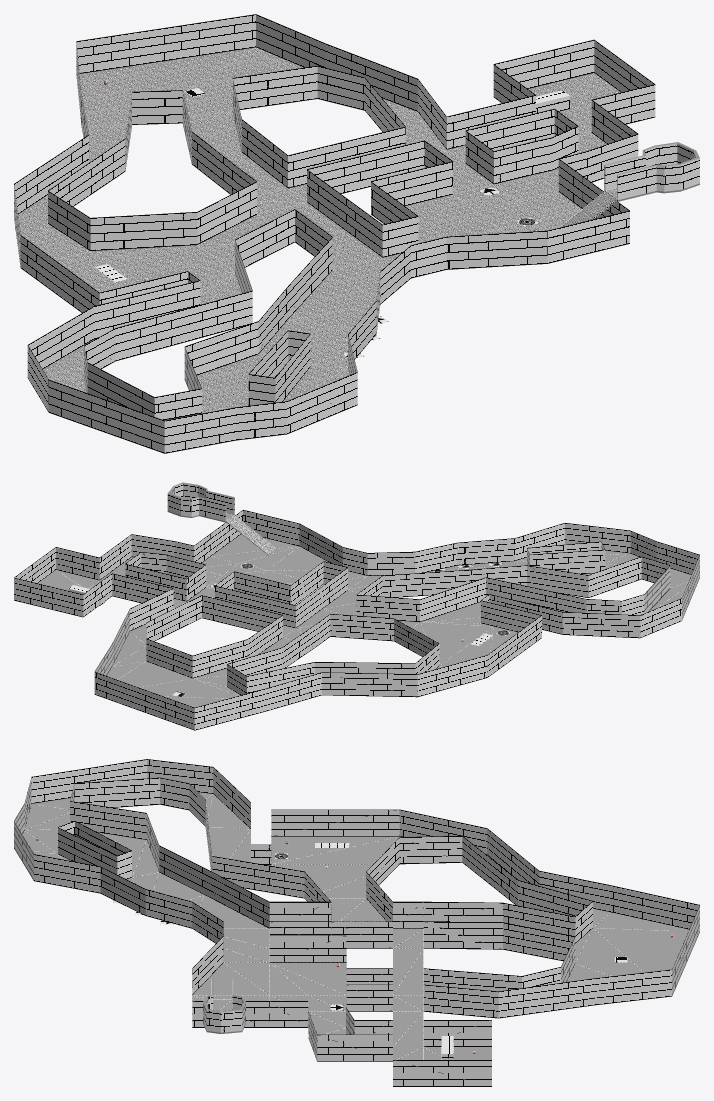
The model's file is level3.obj.
The picture shows the model from 3 angles, top to bottom: view 1: azimuth 30°, elevation 25°; view 2: azimuth 150°, elevation 25°; view 3: azimuth 270°, elevation 25°; orthographic projection. The views are drawn at different scales.
Visible parts, largest first — view 1: Plane; view 2: Plane; view 3: Plane.
Boxes of the visible parts, box(x1,y1,x2,y2) form: Plane: box(14, 14, 699, 453); Plane: box(14, 482, 699, 730); Plane: box(14, 759, 699, 1086).
Size of the model in its own units: 119 by 9.15 by 115.
9 materials, 8 textured.
